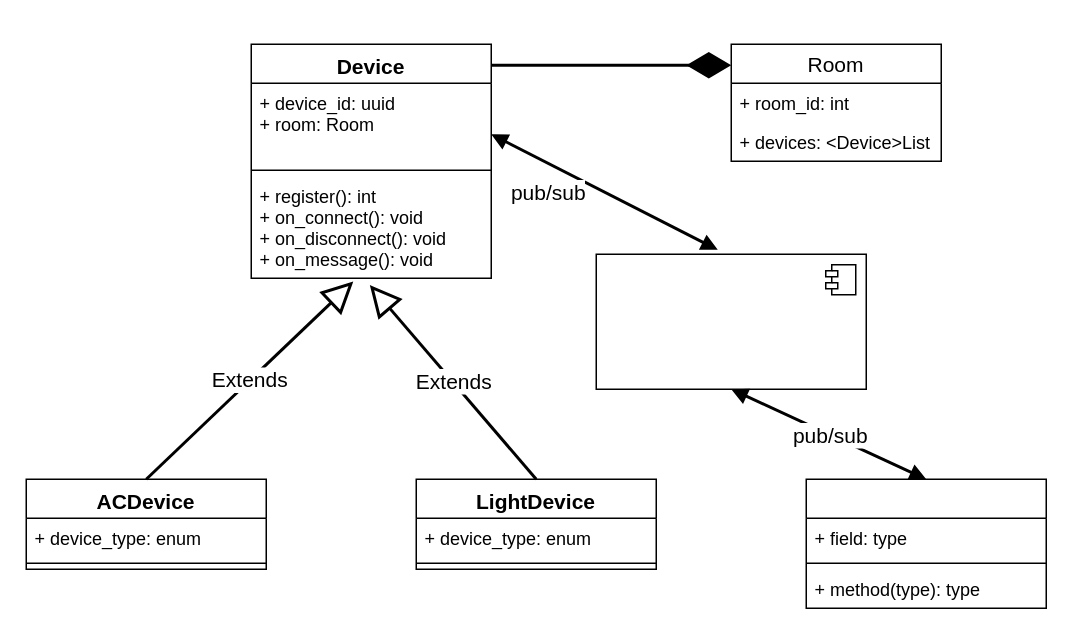
Image size: 1073x638. Some labels were removed from this diagram. Here are the shapes that lost their labels. From the top down, the box of each, then its label:
(595, 253, 866, 389): «topics» MQTT
(805, 478, 1046, 608): EdgeServer
